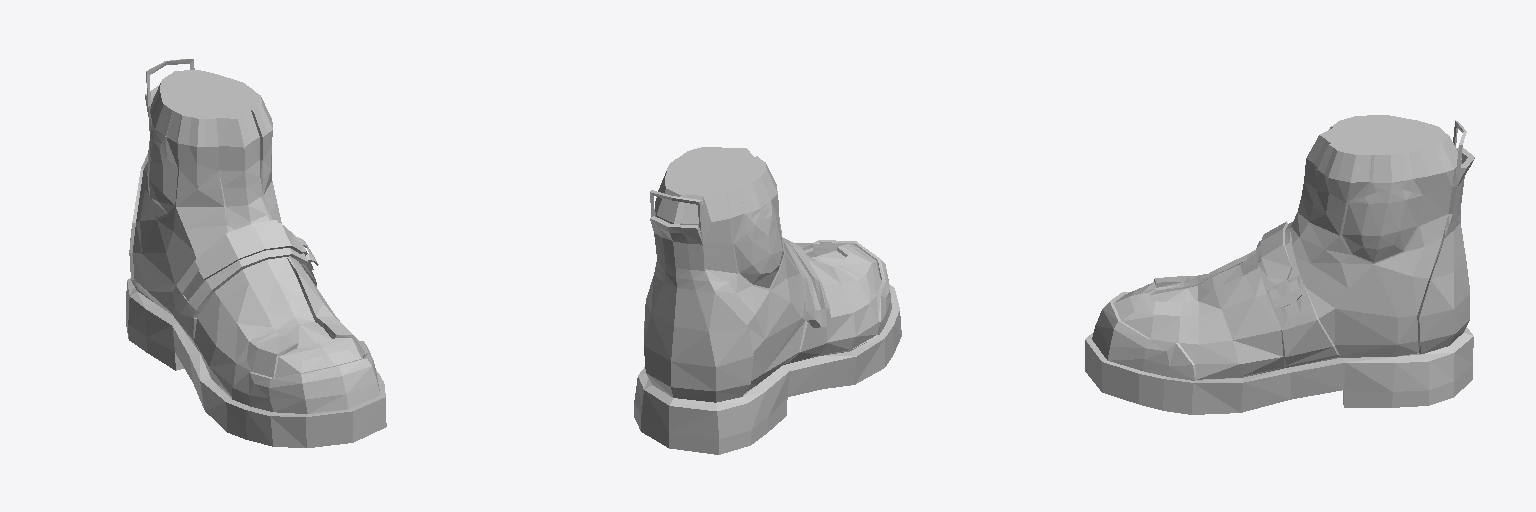
The model's file is rightshoe.obj.
3 renders of one model, left to right at view 1: azimuth 30°, elevation 25°; view 2: azimuth 150°, elevation 25°; view 3: azimuth 270°, elevation 25°, orthographic.
Visible parts, largest first — view 1: Mesh1 Model; view 2: Mesh1 Model; view 3: Mesh1 Model.
Boxes of the visible parts, box(x1,y1,x2,y2) form: Mesh1 Model: box(126, 70, 386, 447); Mesh1 Model: box(634, 147, 901, 454); Mesh1 Model: box(1085, 115, 1474, 414).
Bounding box in the file's own units: 4.88 × 8.06 × 11.26.